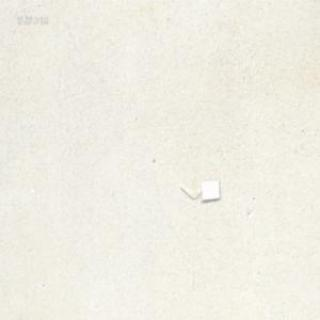LuggageTagtrack_idkeyframe: (177, 177, 220, 200)
